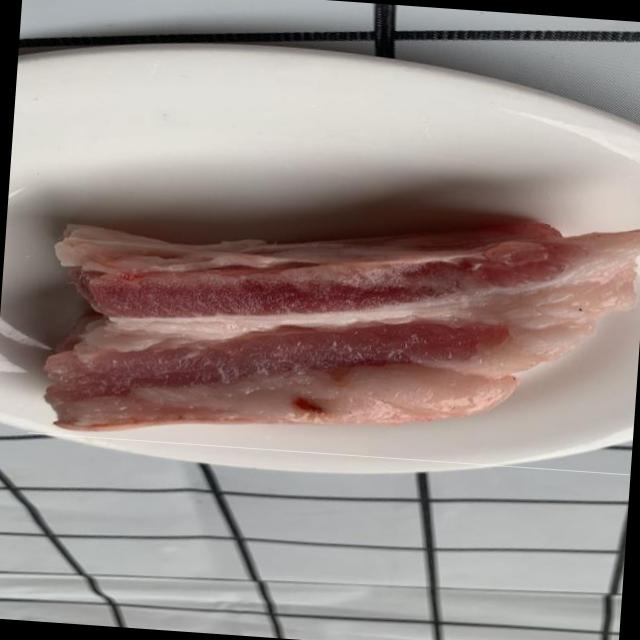chicken: (27, 190, 640, 475)
